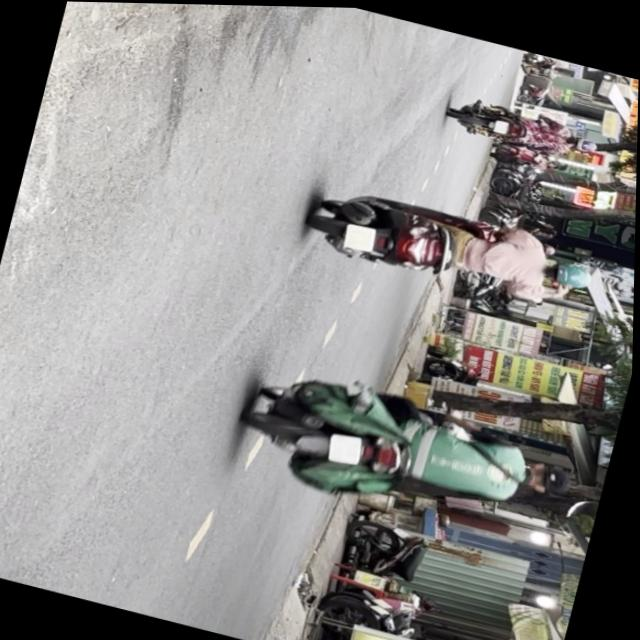helmet: (546, 256, 596, 291), (571, 133, 599, 152)
licenseplate: (229, 355, 589, 552), (298, 173, 604, 318)
motorcyclist: (521, 455, 578, 498)
nohelmet: (325, 428, 367, 466), (343, 221, 376, 252)
